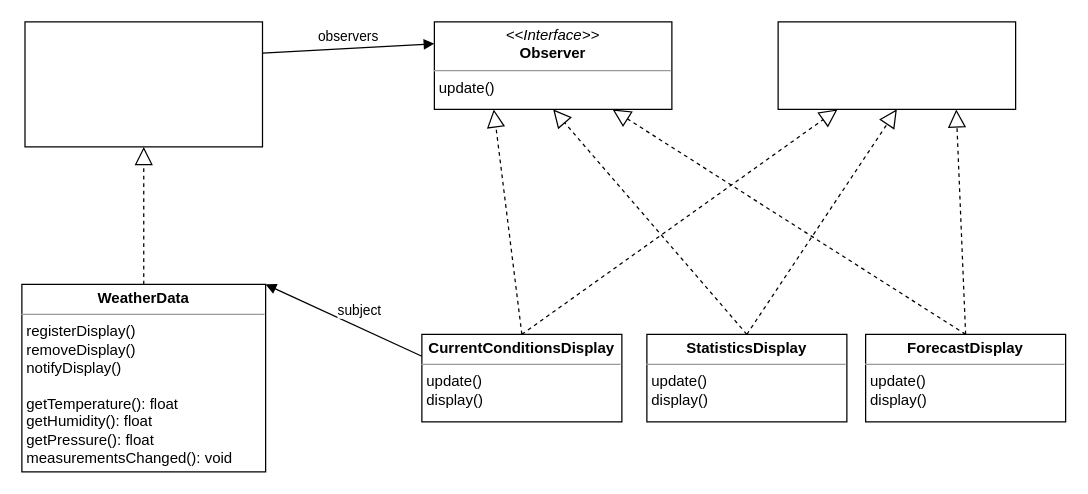
Image size: 1088x494. Some labels were removed from this diagram. Each missing label, with the box of its shape:
<<Interface>> DisplayElement display(): (777, 21, 1016, 109)
<<Interface>> Subject registerDisplay() removeDisplay() notifyDisplay(): (24, 21, 262, 147)
